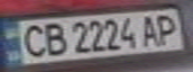2: (66, 18, 90, 55), (84, 17, 106, 53), (103, 16, 124, 52)
4: (118, 15, 142, 49)
A: (136, 12, 163, 47)
B: (39, 20, 69, 57)
C: (15, 21, 51, 59)
P: (151, 11, 184, 46)
